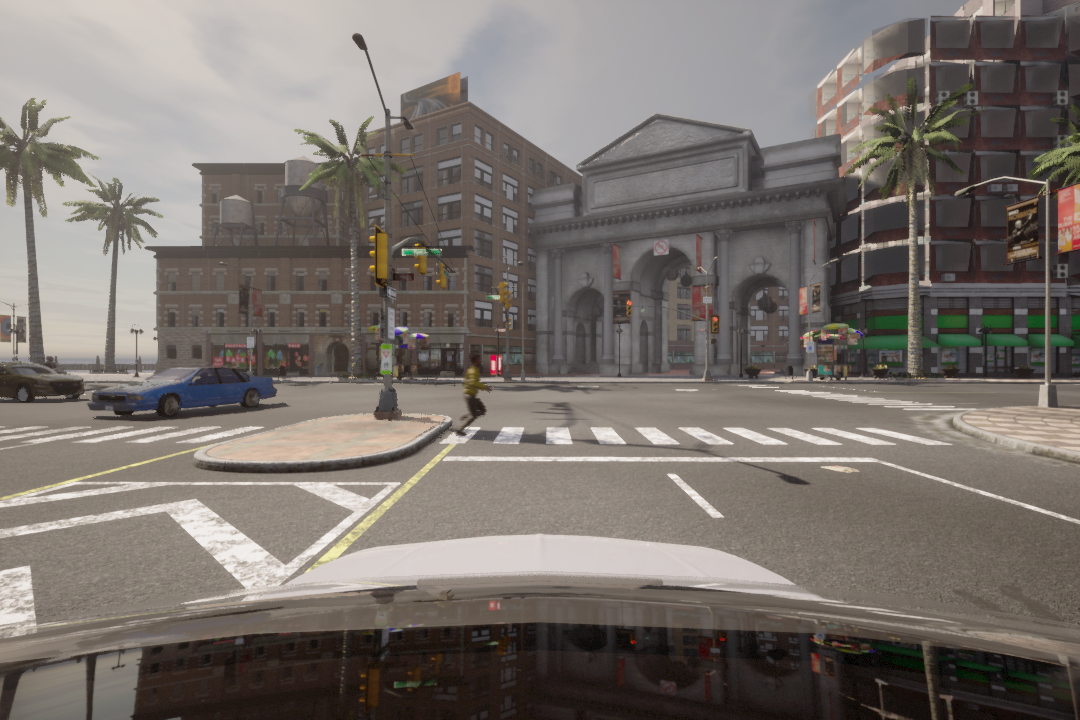TrafficLight: (710, 315, 723, 335), (624, 298, 635, 316)
TrafficSign: (652, 240, 672, 259)
walkside: (448, 425, 958, 449), (1, 424, 264, 447)
